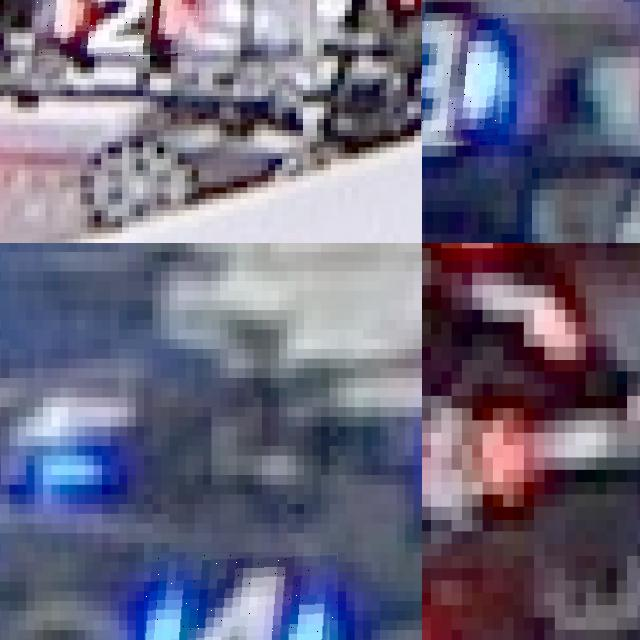B3: (422, 13, 509, 145)
B4: (144, 552, 337, 640)
R2: (35, 0, 202, 58)
R4: (422, 371, 534, 543)
